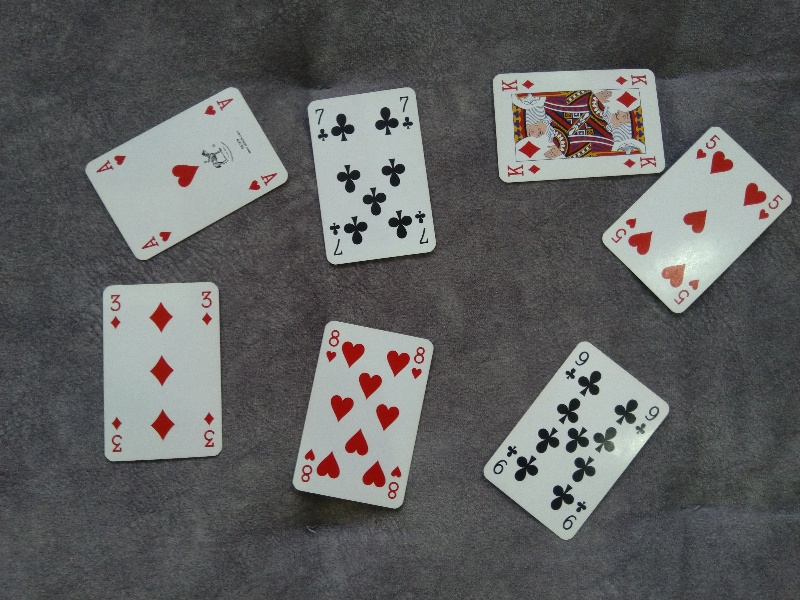3d: (106, 290, 126, 332), (107, 414, 125, 456), (201, 408, 218, 451), (199, 289, 214, 327)
5h: (755, 192, 786, 221), (672, 278, 702, 306), (610, 216, 639, 244), (694, 132, 721, 161)
7c: (412, 207, 433, 247), (326, 220, 347, 259), (311, 103, 331, 143), (397, 95, 415, 132)
8h: (297, 447, 317, 485), (385, 462, 404, 502), (323, 326, 341, 363), (410, 344, 428, 380)
9c: (560, 494, 589, 533), (561, 346, 591, 383), (633, 403, 663, 436), (493, 443, 518, 477)
Ah: (93, 153, 130, 176), (202, 94, 236, 119), (138, 229, 173, 253), (246, 169, 280, 193)
Kd: (496, 74, 536, 92), (621, 155, 660, 171), (612, 71, 649, 87), (504, 163, 543, 178)
